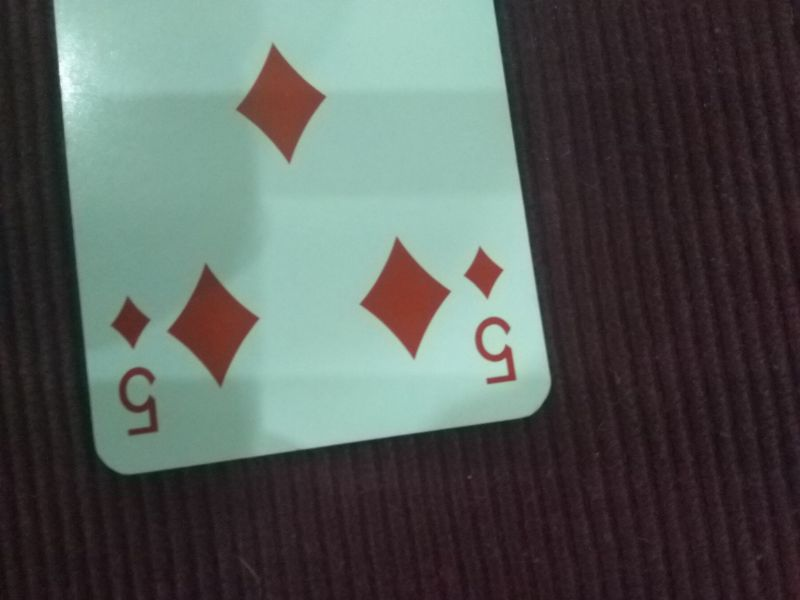5d: (459, 240, 523, 389), (107, 287, 166, 440)
